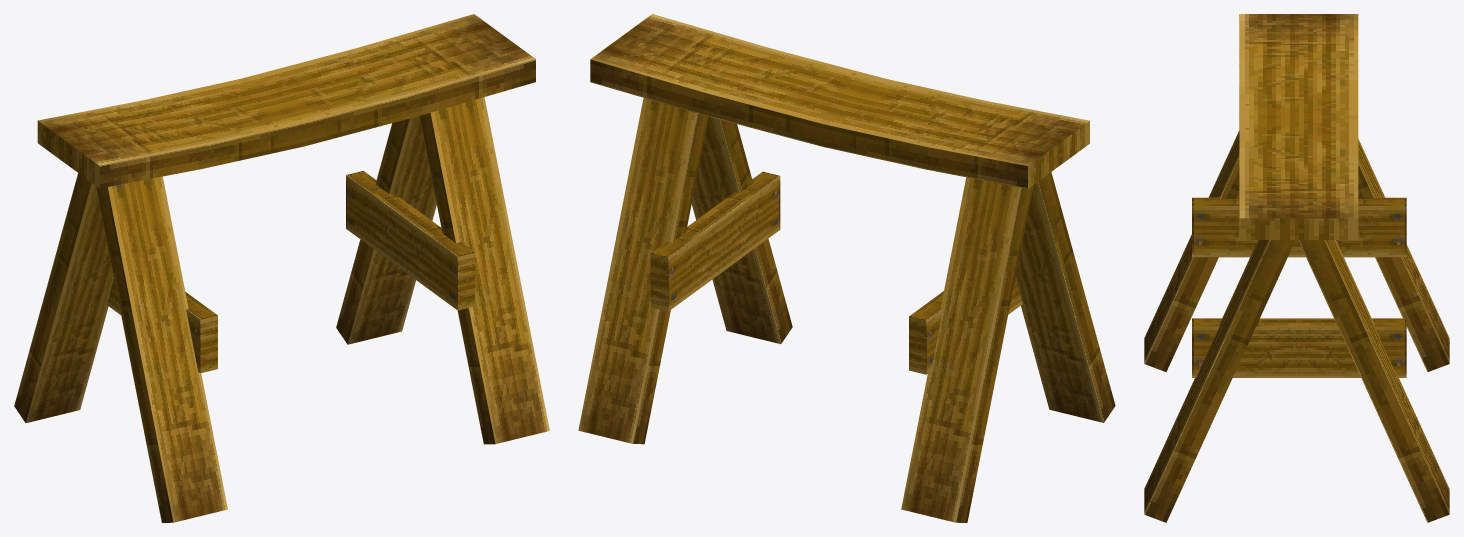
The model's file is INST_LT_SAWHORSE.fbx.
3 renders of one model, left to right at view 1: azimuth 30°, elevation 25°; view 2: azimuth 150°, elevation 25°; view 3: azimuth 270°, elevation 25°, orthographic. The views are drawn at different scales.
Visible parts, largest first — view 1: INST_LT_SAWHORSE; view 2: INST_LT_SAWHORSE; view 3: INST_LT_SAWHORSE.
Boxes of the visible parts, x1,y1,x2,y2 form: INST_LT_SAWHORSE: [14, 14, 549, 522]; INST_LT_SAWHORSE: [578, 14, 1115, 522]; INST_LT_SAWHORSE: [1144, 14, 1449, 522].
Bounding box in the file's own units: 8759 × 6427 × 5537.
1 material, 1 textured.
